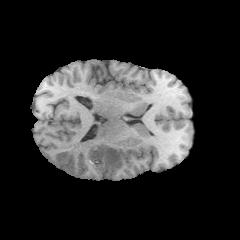glioma: (58, 135, 133, 177)
